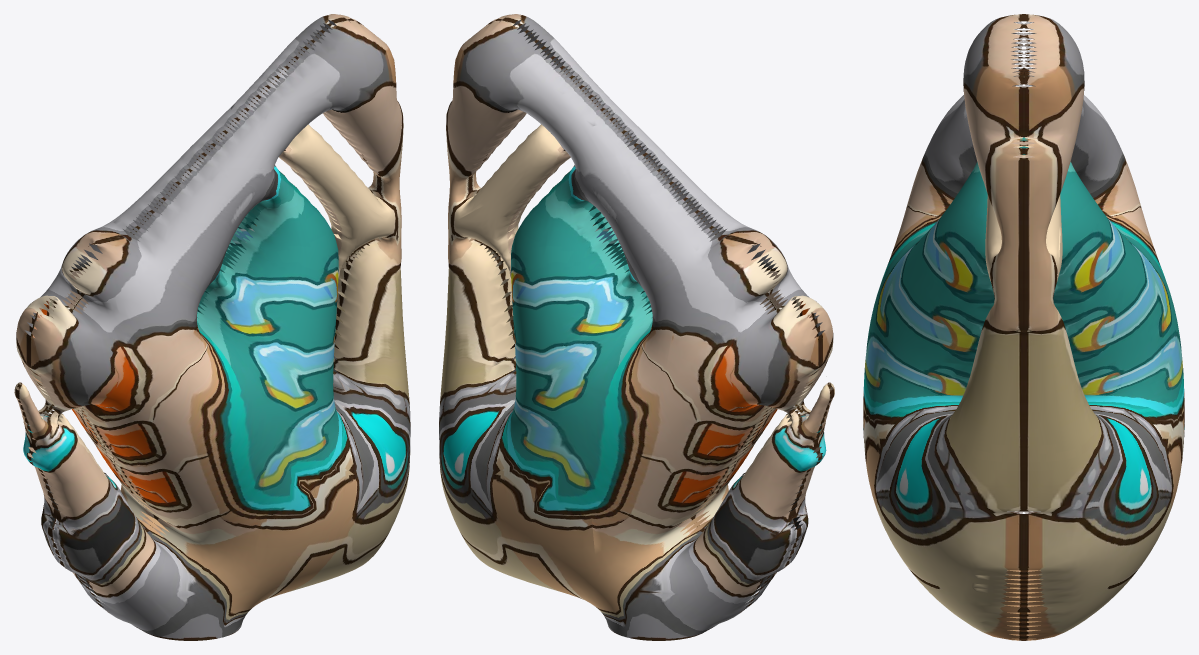
The model's file is coolant_console.glb.
3 views of the same model, side by side, from view 1: azimuth 30°, elevation 25°; view 2: azimuth 150°, elevation 25°; view 3: azimuth 270°, elevation 25° (orthographic). The views are drawn at different scales.
Visible parts, largest first — view 1: coolant_console; view 2: coolant_console; view 3: coolant_console.
Boxes of the visible parts, x1,y1,x2,y2 form: coolant_console: (14,14,410,640); coolant_console: (439,14,834,640); coolant_console: (863,14,1184,640).
Size of the model in its own units: 0.985 by 1.34 by 0.6304.
Materials: 1 (1 with a texture image).
